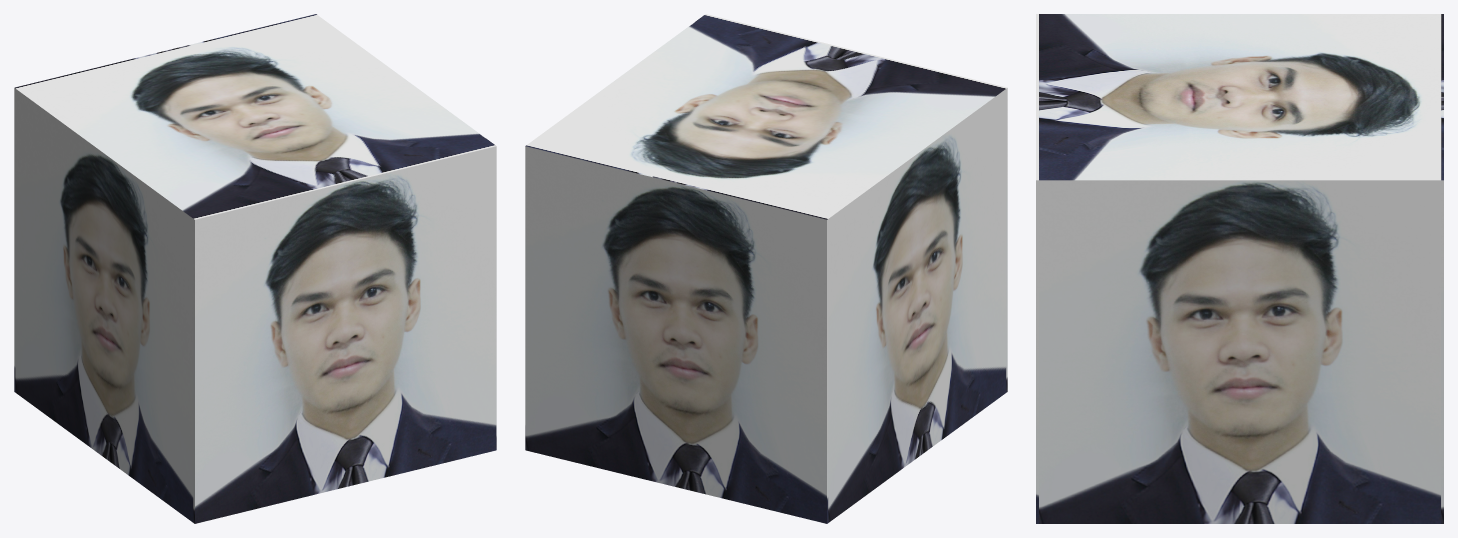
Rendered from ulo.gltf.
3 renders of one model, left to right at view 1: azimuth 30°, elevation 25°; view 2: azimuth 150°, elevation 25°; view 3: azimuth 270°, elevation 25°, orthographic. The views are drawn at different scales.
Parts seen in each view (by area): view 1: Component#5; view 2: Component#5; view 3: Component#5.
Part boxes in pixels (x1,y1,x2,y2): Component#5: [14, 14, 496, 523]; Component#5: [525, 14, 1007, 523]; Component#5: [1036, 14, 1443, 523].
Size of the model in its own units: 0.2985 by 0.2873 by 0.3092.
1 material, 1 textured.
